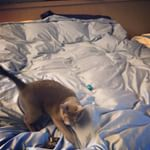puppy: (4, 73, 94, 150)
